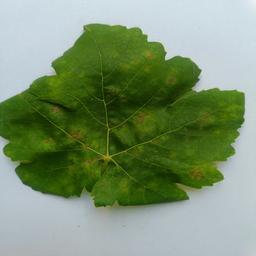Powdery-Mildew: (135, 107, 171, 135), (129, 43, 159, 70), (189, 154, 219, 181), (64, 124, 94, 145), (198, 108, 220, 131), (43, 138, 57, 156), (166, 76, 177, 87), (50, 101, 61, 112)
